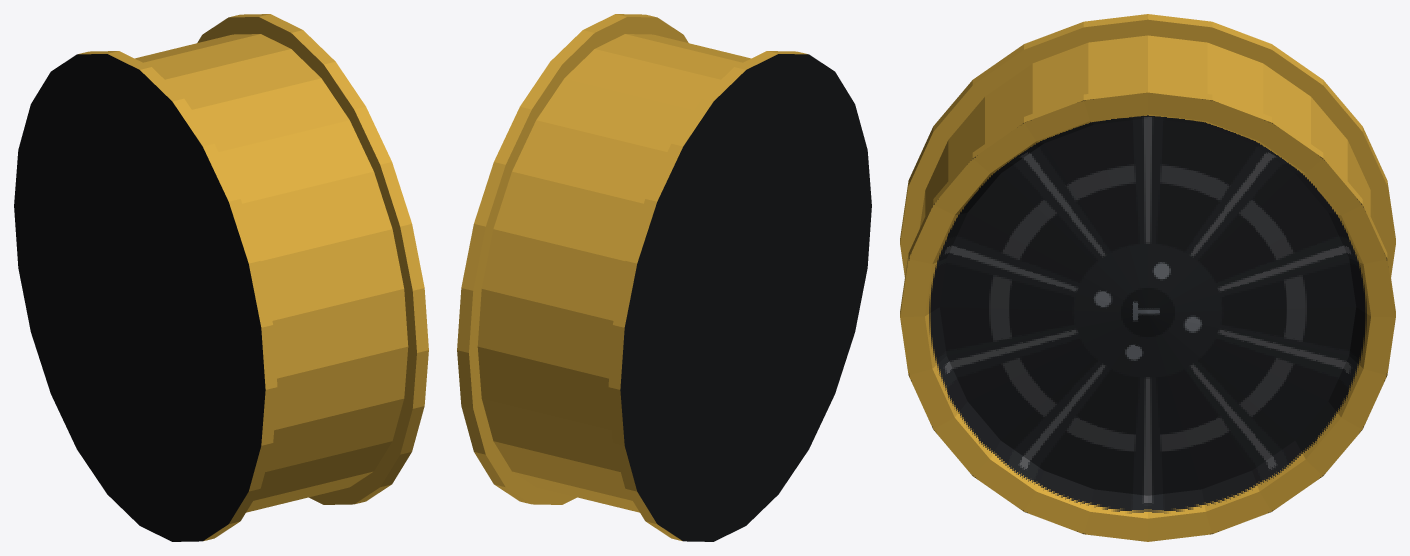
The model's file is tauari_monobloco_18.glb.
The picture shows the model from 3 angles, left to right: view 1: azimuth 30°, elevation 25°; view 2: azimuth 150°, elevation 25°; view 3: azimuth 270°, elevation 25°; orthographic projection.
Visible parts, largest first — view 1: tauari_monobloco_18; view 2: tauari_monobloco_18; view 3: tauari_monobloco_18.
Part boxes in pixels (<box>): tauari_monobloco_18: <box>14,14,428,541</box>; tauari_monobloco_18: <box>457,14,871,541</box>; tauari_monobloco_18: <box>900,14,1395,541</box>.
Bounding box in the file's own units: 0.192 × 0.5121 × 0.5121.
Materials: 1 (1 with a texture image).
